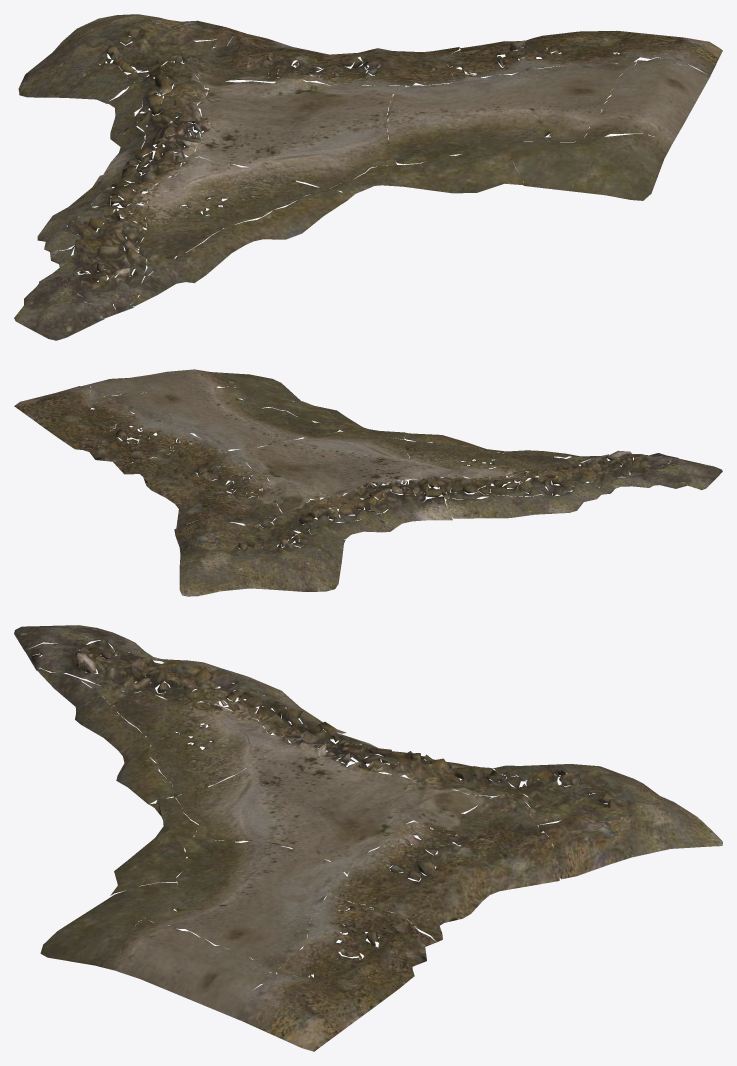
The model's file is ph_coast_rocks_01.glb.
The picture shows the model from 3 angles, top to bottom: view 1: azimuth 30°, elevation 25°; view 2: azimuth 150°, elevation 25°; view 3: azimuth 270°, elevation 25°; orthographic projection. The views are drawn at different scales.
Visible parts, largest first — view 1: coast_rocks_01; view 2: coast_rocks_01; view 3: coast_rocks_01.
Boxes of the visible parts, <box> form: coast_rocks_01: <box>14,14,722,340</box>; coast_rocks_01: <box>14,369,722,596</box>; coast_rocks_01: <box>14,625,722,1051</box>.
Bounding box in the file's own units: 59.51 × 3.21 × 42.56.
Materials: 1 (1 with a texture image).
